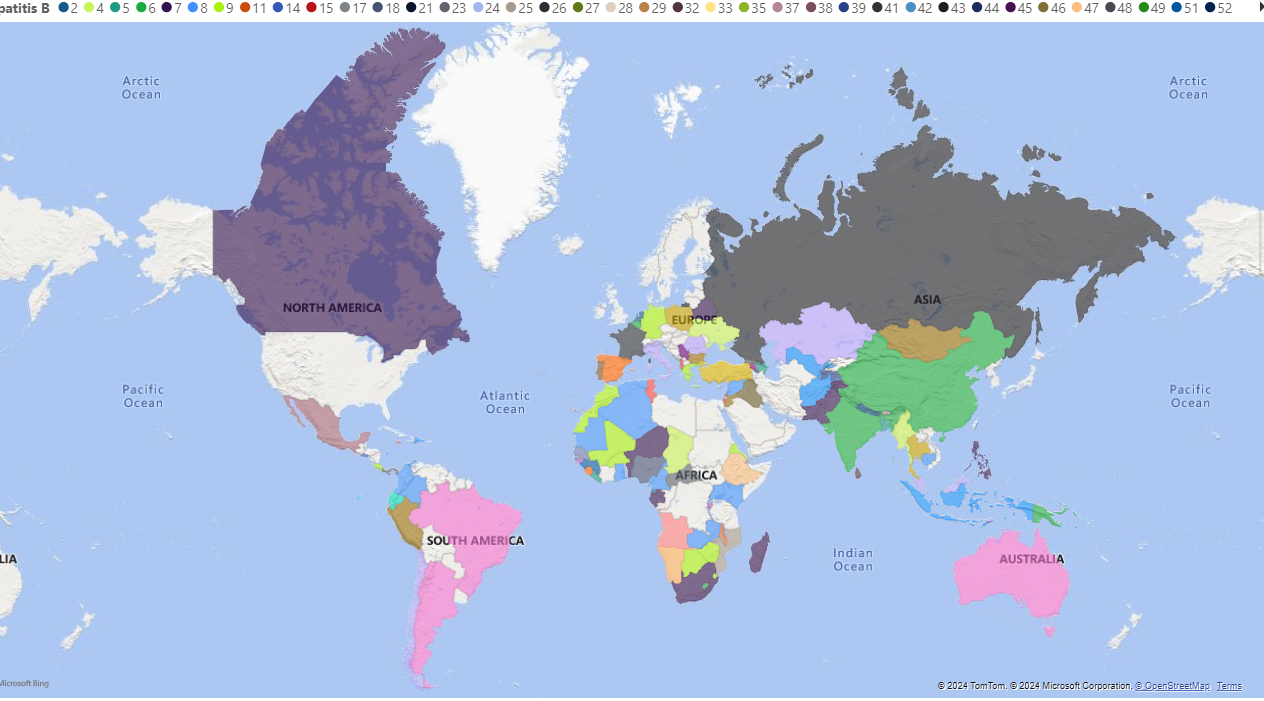

The page's visual inventory and layout, read from the dashboard file:
{"tool":"powerbi","page":{"name":"Page 4","canvas":[1280,720],"ordinal":3},"visuals":[{"type":"filledMap","fields":{"Category":["Life Expectancy Data.Country"],"Series":["Life Expectancy Data.Hepatitis B"]},"box":[9.8,0,1270.5,720.2],"z":0},{"type":"actionButton","box":[0,0,100,40],"z":1000}]}

Visuals, with their boxes on the page's 1280x720 design canvas (x1, y1, x2, y2). These are canvas units, not pixel positions in the 1264x701 screenshot, which may show the page scaled, cropped or inside an application window:
filledMap - Life Expectancy Data.Country x Life Expectancy Data.Hepatitis B: 10,0,1280,720
actionButton: 0,0,100,40
